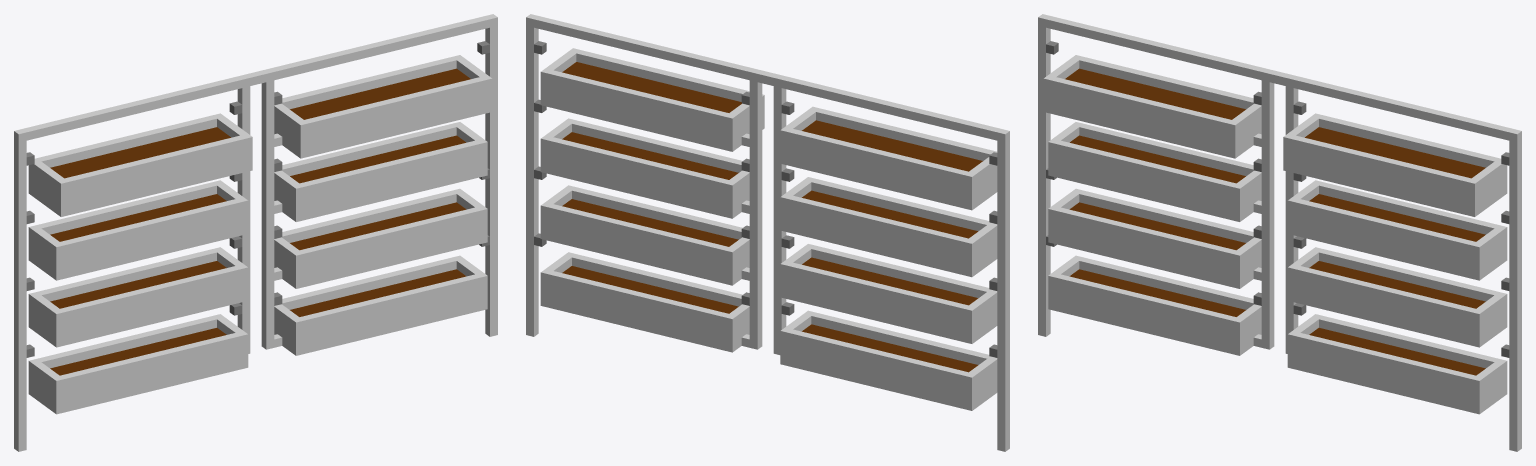
The model's file is Green House Plant Wall 2.obj.
3 views of the same model, side by side, from view 1: azimuth 30°, elevation 25°; view 2: azimuth 150°, elevation 25°; view 3: azimuth 330°, elevation 25° (orthographic).
Bounding box in the file's own units: 60 × 38 × 7.
1 material, 1 textured.
